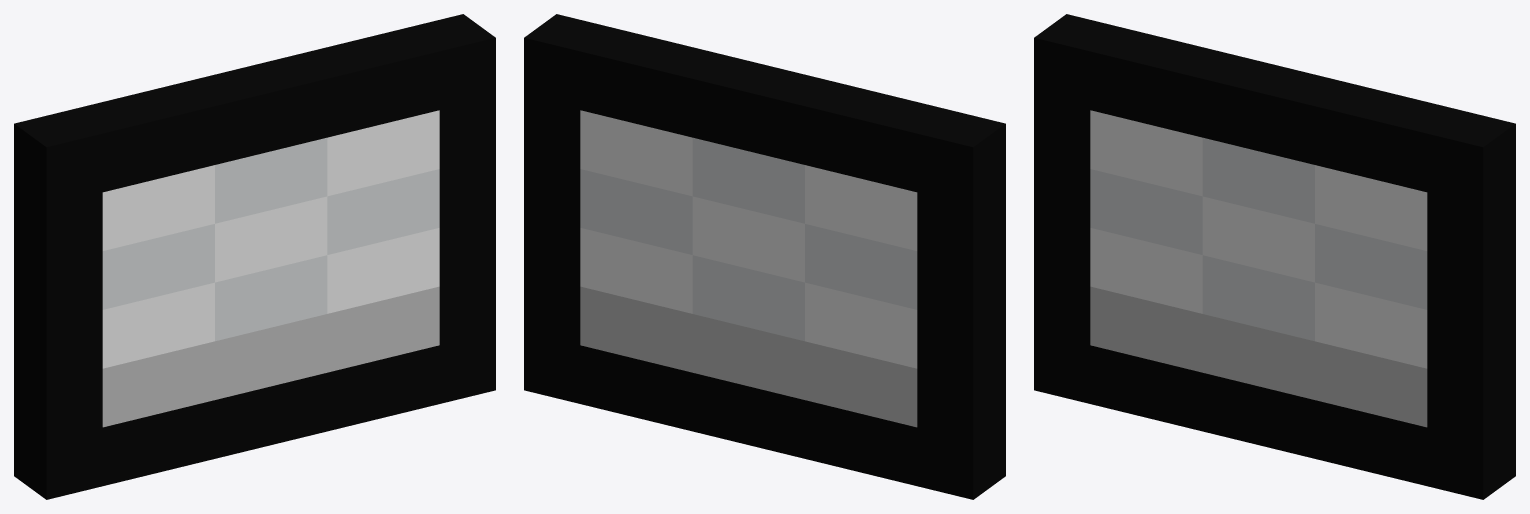
File: White Carpet.glb
3 views of the same model, side by side, from view 1: azimuth 30°, elevation 25°; view 2: azimuth 150°, elevation 25°; view 3: azimuth 330°, elevation 25° (orthographic).
Parts seen in each view (by area): view 1: generated(Clone); view 2: generated(Clone); view 3: generated(Clone).
Boxes of the visible parts, x1=… form: generated(Clone): x1=14, y1=14, x2=495, y2=499; generated(Clone): x1=524, y1=14, x2=1005, y2=499; generated(Clone): x1=1034, y1=14, x2=1515, y2=499.
Size of the model in its own units: 8 by 6 by 1.
Materials: 1 (1 with a texture image).
